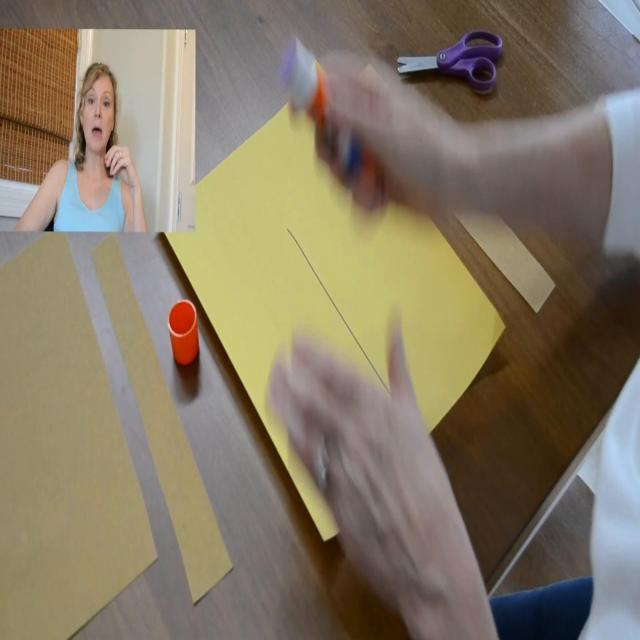scissor: (397, 28, 502, 90)
